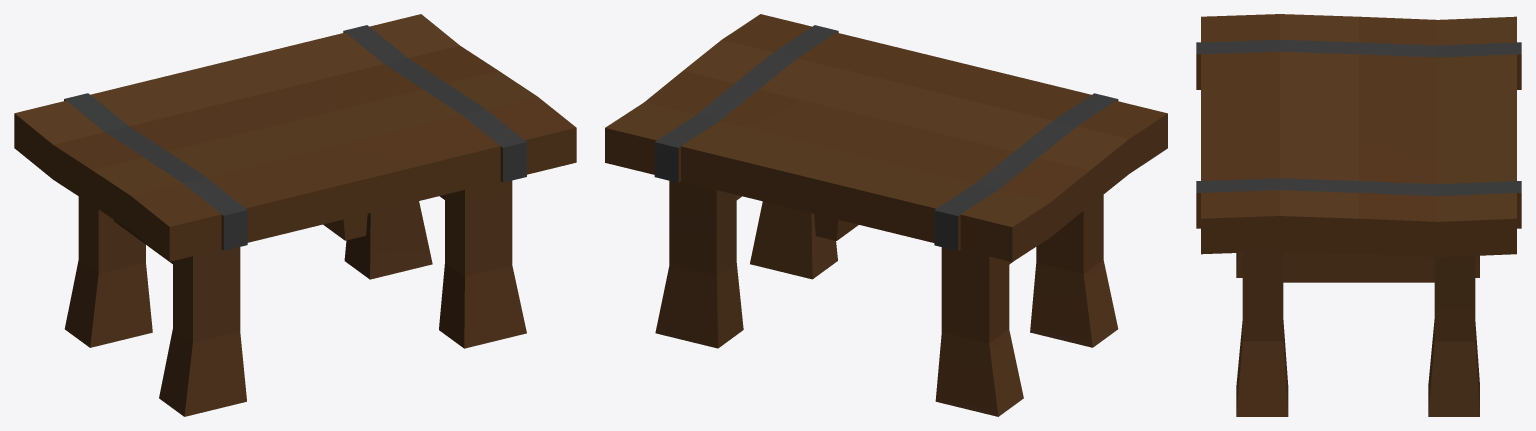
Rendered from Table.fbx.
3 views of the same model, side by side, from view 1: azimuth 30°, elevation 25°; view 2: azimuth 150°, elevation 25°; view 3: azimuth 270°, elevation 25° (orthographic).
Visible parts, largest first — view 1: Table; view 2: Table; view 3: Table.
Part boxes in pixels (box(x1,y1,x2,y2)): Table: box(14, 14, 576, 416); Table: box(605, 14, 1167, 416); Table: box(1196, 14, 1521, 416).
Size of the model in its own units: 131 by 65.76 by 89.31.
